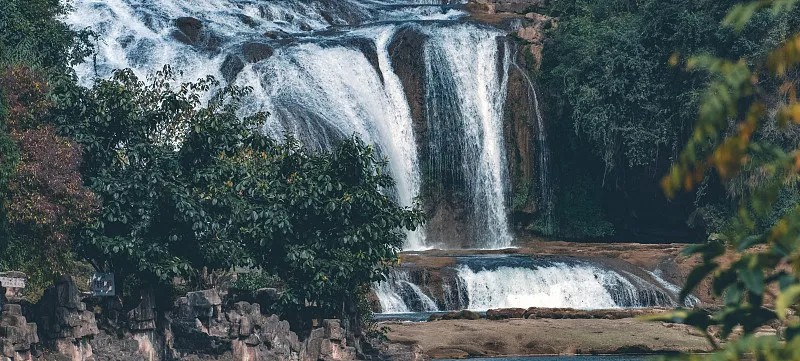Huangguoshu: (72, 3, 515, 248)
